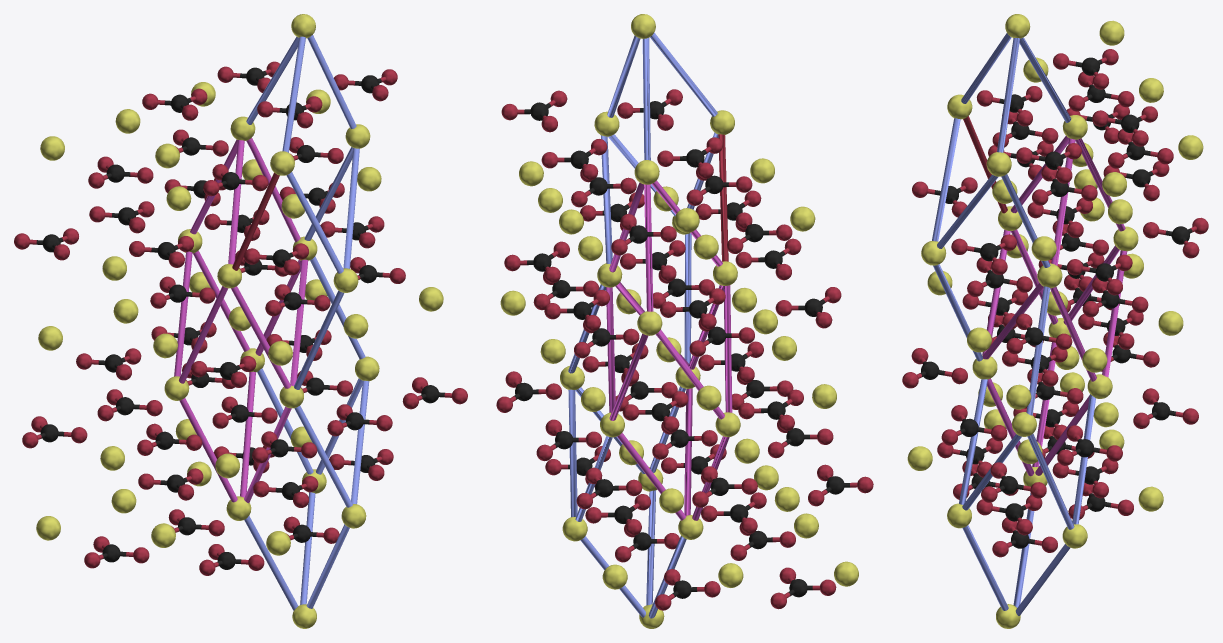
The model's file is Calcit Gitter.fbx.
3 views of the same model, side by side, from view 1: azimuth 30°, elevation 25°; view 2: azimuth 150°, elevation 25°; view 3: azimuth 270°, elevation 25° (orthographic).
Parts seen in each view (by area): view 1: Calcit_Gitter.926; view 2: Calcit_Gitter.926; view 3: Calcit_Gitter.926.
Boxes of the visible parts, left/top/right/bottom form: Calcit_Gitter.926: left=14, top=14, right=467, bottom=628; Calcit_Gitter.926: left=496, top=14, right=873, bottom=628; Calcit_Gitter.926: left=902, top=14, right=1208, bottom=628.
Size of the model in its own units: 110 by 158 by 71.44.
